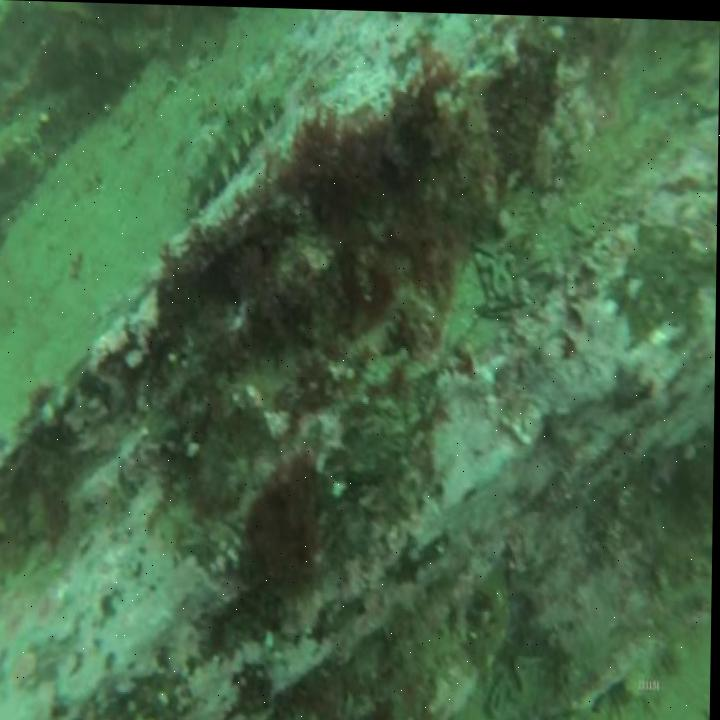holothurian: (168, 86, 289, 217), (473, 560, 519, 675)
